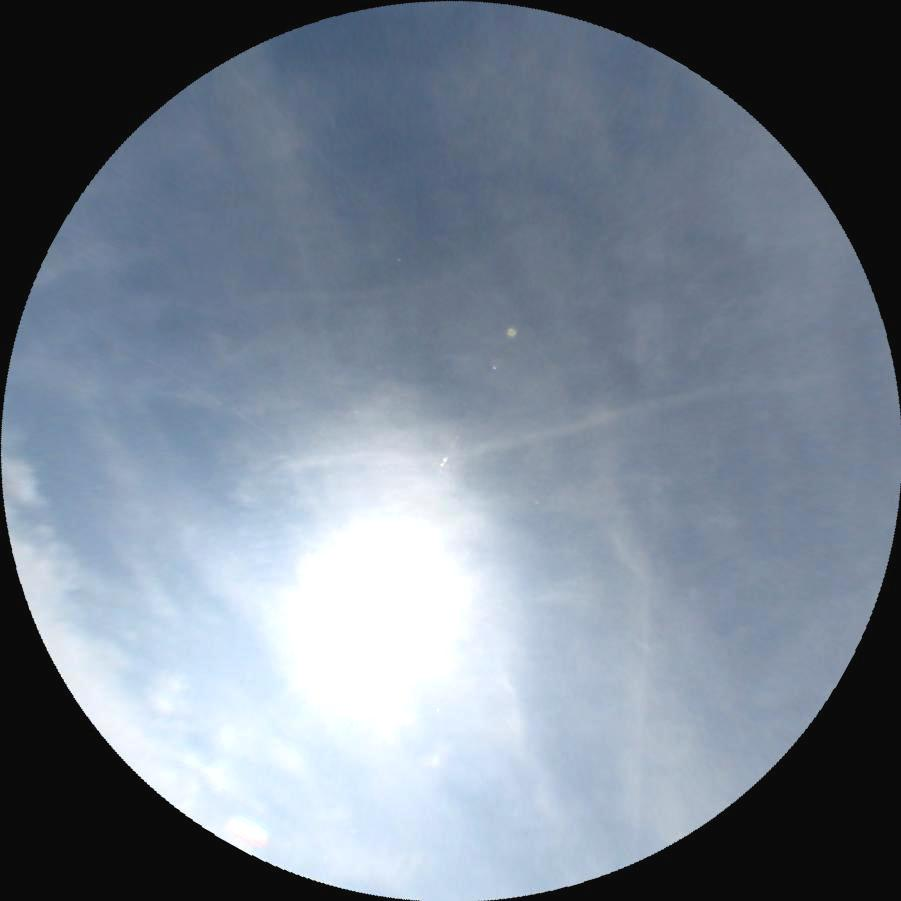contrail veryold: (275, 365, 822, 487)
sun: (281, 529, 452, 698)
